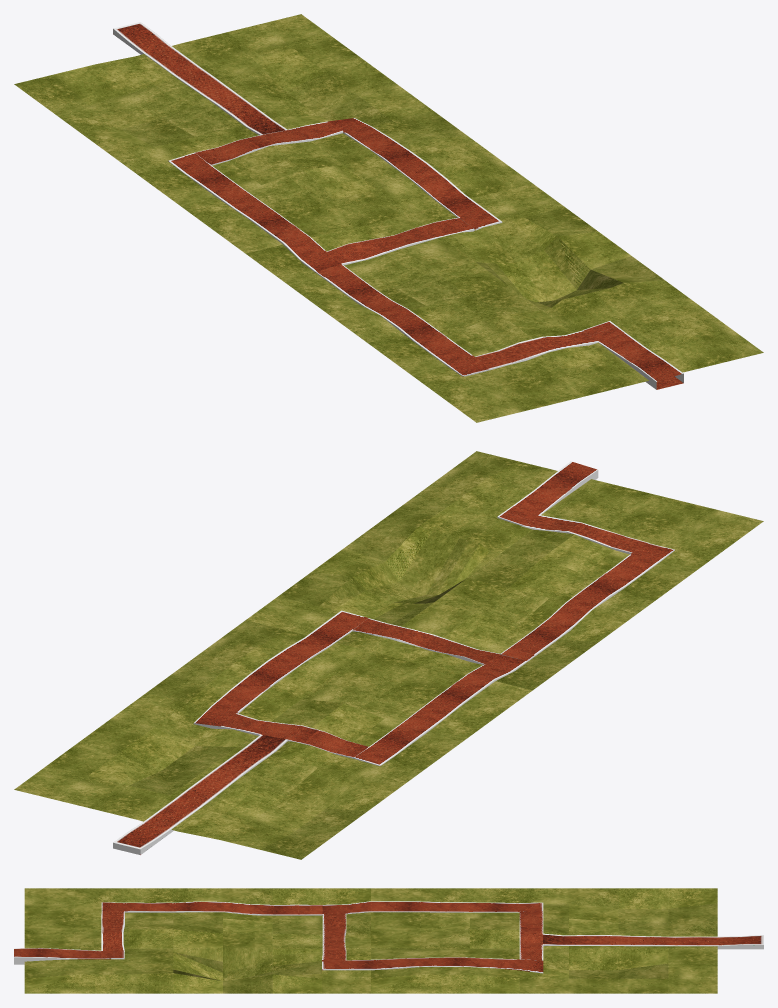
Rendered from planepark.fbx.
The picture shows the model from 3 angles, top to bottom: view 1: azimuth 30°, elevation 25°; view 2: azimuth 150°, elevation 25°; view 3: azimuth 270°, elevation 25°; orthographic projection. The views are drawn at different scales.
Visible parts, largest first — view 1: parkplane_1, parkplane, rightsideway, streetinicial, rightsideway_1, redleft, redleft_1, mesh_1, mesh, mesh_2; view 2: parkplane, parkplane_1, streetinicial, rightsideway_1, redleft, rightsideway, redleft_1, mesh, mesh_1, mesh_2; view 3: parkplane, parkplane_1, streetinicial, rightsideway_1, rightsideway, redleft, redleft_1, mesh, mesh_1, mesh_2.
Boxes of the visible parts, x1,y1,x2,y2 form: parkplane_1: (14,14,532,253); parkplane: (246,183,763,422); rightsideway: (168,152,341,271); streetinicial: (113,22,287,135); rightsideway_1: (315,264,489,376); redleft: (327,118,502,230); redleft_1: (582,321,683,389); mesh_1: (326,217,474,265); mesh: (195,121,343,165); mesh_2: (475,330,598,370); parkplane: (246,451,763,690); parkplane_1: (14,620,532,859); streetinicial: (113,734,287,854); rightsideway_1: (500,543,674,661); redleft: (193,610,368,728); rightsideway: (353,654,527,766); redleft_1: (497,461,598,526); mesh: (220,713,369,758); mesh_1: (352,618,500,664); mesh_2: (520,515,648,554); parkplane: (24,888,371,993); parkplane_1: (371,888,717,993); streetinicial: (543,933,763,949); rightsideway_1: (101,901,322,915); rightsideway: (322,901,543,915); redleft: (322,957,543,973); redleft_1: (14,948,124,964); mesh: (519,911,543,960); mesh_1: (322,913,346,960); mesh_2: (101,911,124,951).
Size of the model in its own units: 525 by 59.38 by 1584.
Materials: 9 (9 with a texture image).
